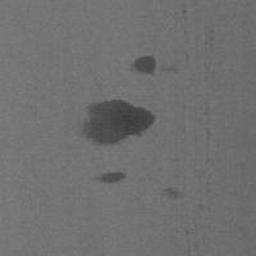Oil spot: (81, 99, 157, 146), (131, 55, 179, 76), (97, 172, 127, 184), (163, 187, 182, 200)
